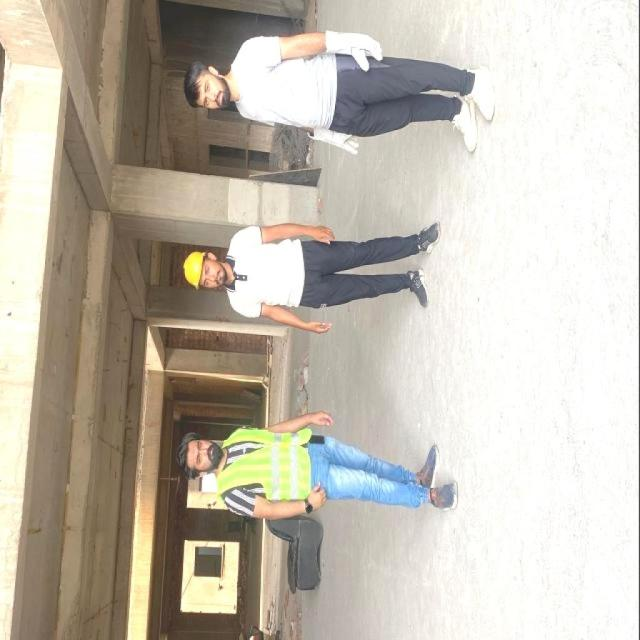Gloves-Detection: (319, 26, 382, 72), (311, 127, 366, 152)
